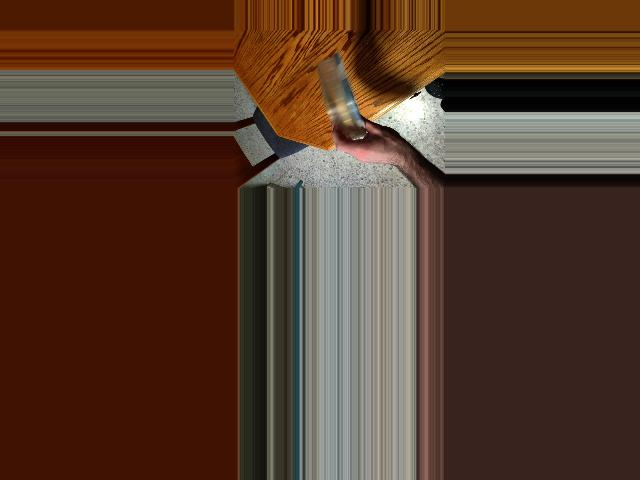cheese: (322, 51, 356, 148)
